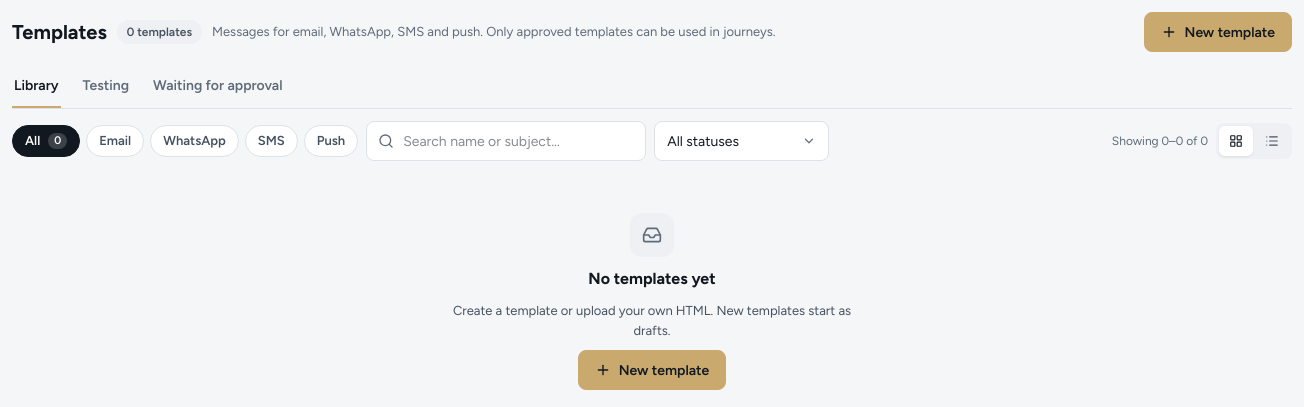
Templates page — library › renders the "no templates yet" empty state, and the table empty row
Expected: the heading "No templates yet" is shown, [588,267,716,291]
Click the button named "Table view" at [1272, 141], box [1255,126,1289,156]
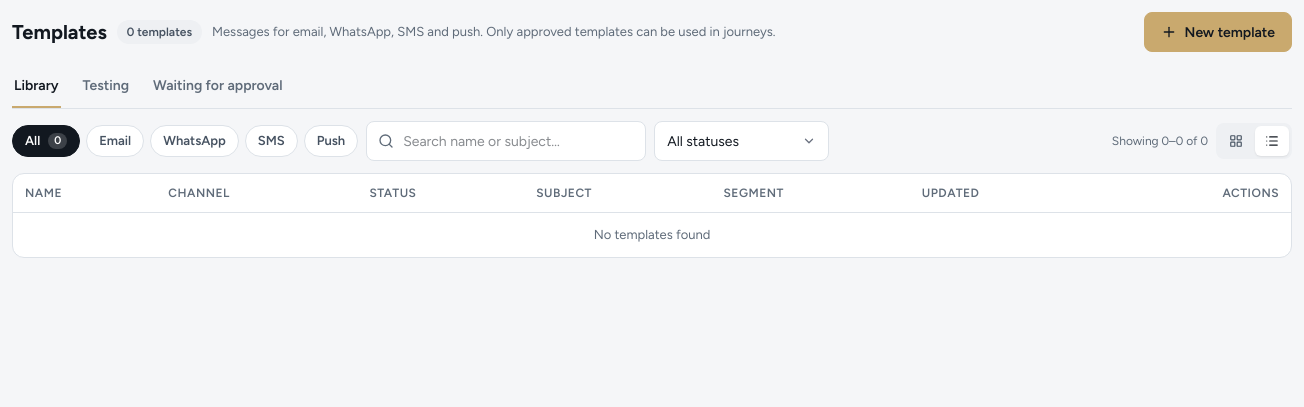
Expected: the text "No templates found" is shown, [13,212,1291,256]
